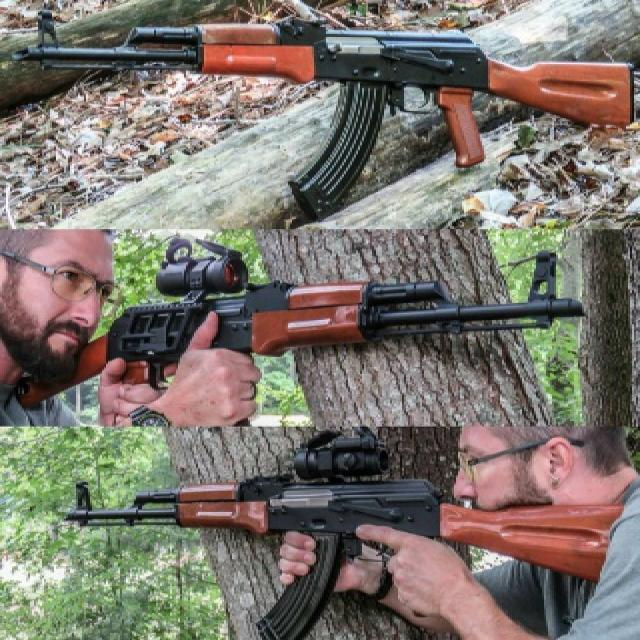rifle: (5, 5, 637, 219), (67, 435, 617, 640), (105, 235, 599, 405)
